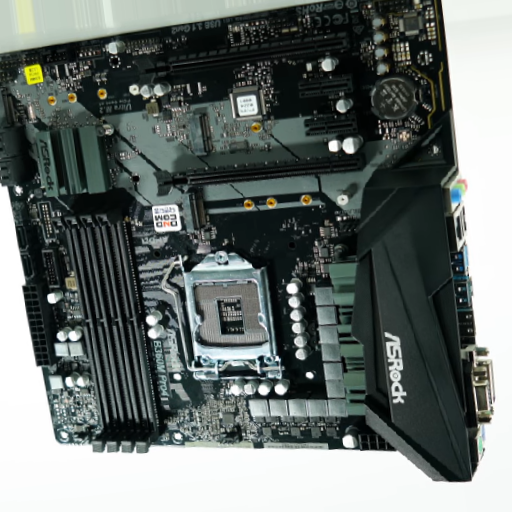CPU: (186, 250, 284, 382)
GPU: (135, 32, 349, 86), (156, 153, 365, 197)
MOTHERBOARD: (2, 1, 487, 451)
RAM: (51, 205, 159, 454)
SSD: (182, 188, 207, 235), (190, 113, 215, 158)
